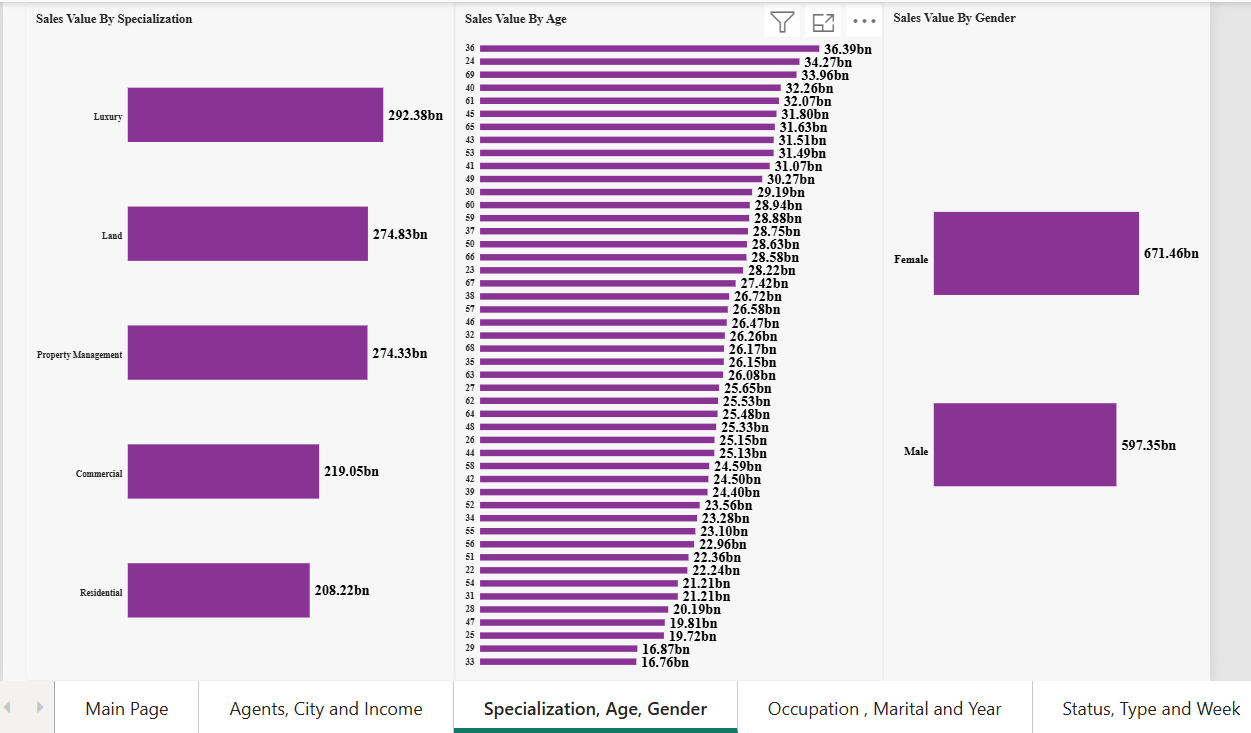

Layout of this report page (visuals, bound fields, positions):
{"tool":"powerbi","page":{"name":"Specialization, Age, Gender","canvas":[1920,1080],"ordinal":2},"visuals":[{"type":"barChart","title":"Sales Value By Gender","fields":{"Category":["dim_customer.gender"],"Y":["fact_transaction.Total sale value"]},"box":[1400.8,0,518.4,1080.2],"z":0},{"type":"barChart","title":"Sales Value By Age","fields":{"Category":["dim_customer.age"],"Y":["fact_transaction.Total sale value"]},"box":[718.5,0,682.3,1080.2],"z":1},{"type":"barChart","title":"Sales Value By Specialization","fields":{"Category":["dim_agent.specialization"],"Y":["fact_transaction.Total sale value"]},"box":[36.2,0,682.3,1080.2],"z":2}]}

Visuals, with their boxes on the page's 1920x1080 design canvas (x1, y1, x2, y2). These are canvas units, not pixel positions in the 1251x733 screenshot, which may show the page scaled, cropped or inside an application window:
"Sales Value By Gender" barChart: (x1=1401, y1=0, x2=1919, y2=1080)
"Sales Value By Age" barChart: (x1=718, y1=0, x2=1401, y2=1080)
"Sales Value By Specialization" barChart: (x1=36, y1=0, x2=718, y2=1080)
